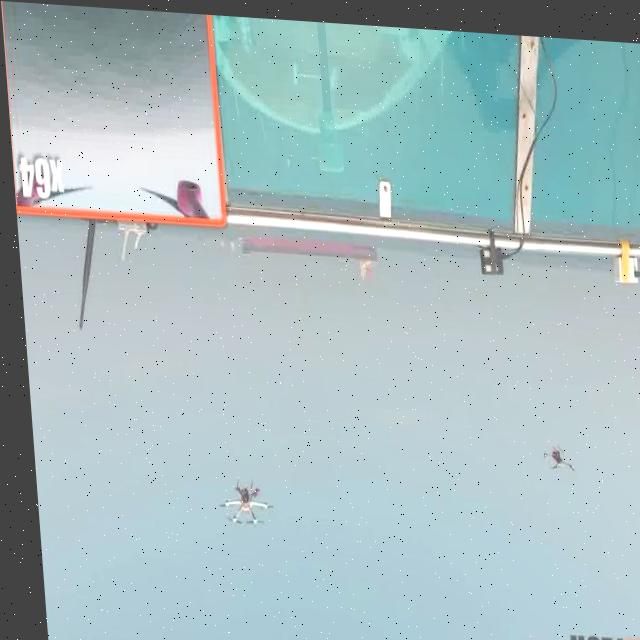drone: (527, 428, 572, 479)
